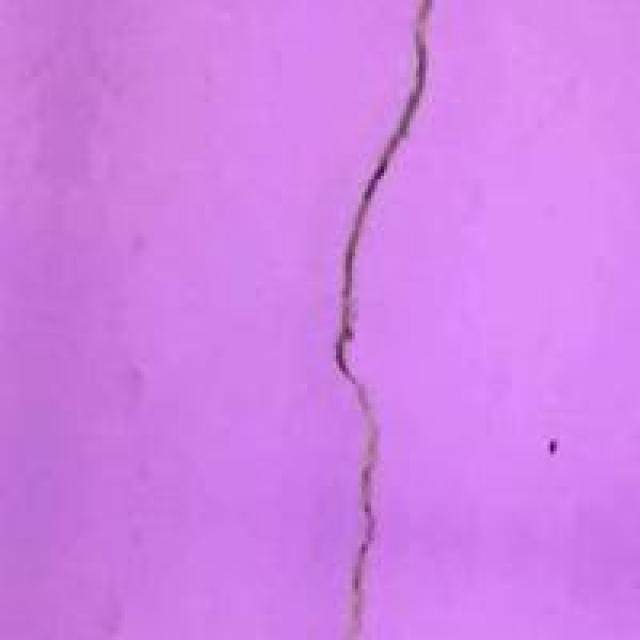crack: (288, 0, 474, 637)
